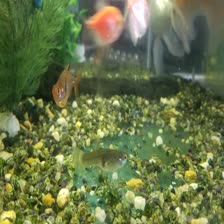Guppy: (66, 143, 132, 174)
Plano: (83, 1, 126, 46)
Transparente: (44, 64, 83, 107)
